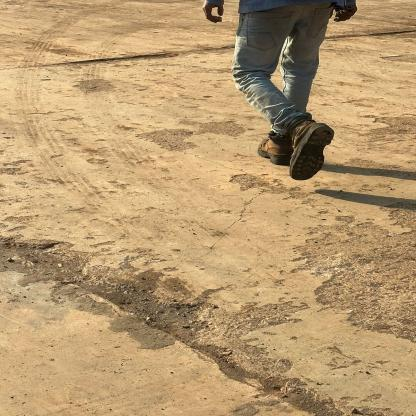bota: (283, 114, 344, 183), (252, 129, 292, 169)
